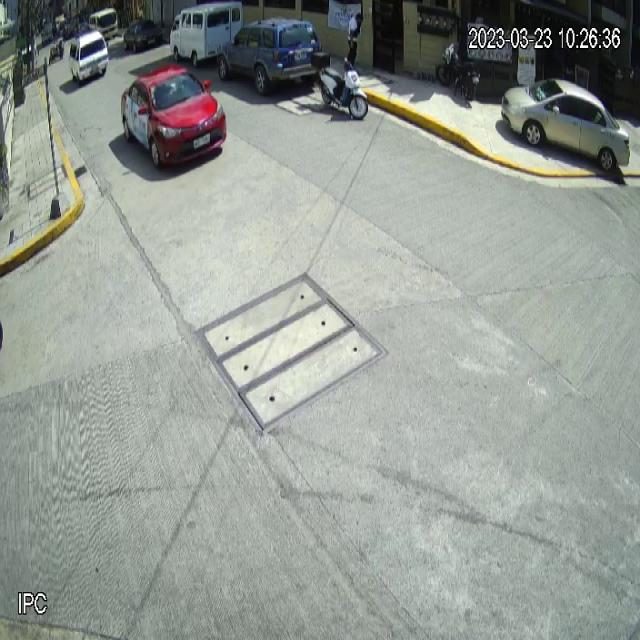Car: (501, 76, 631, 171), (119, 65, 228, 168), (219, 15, 325, 94)
Motorcycle: (312, 48, 369, 120)
Van: (170, 1, 245, 67)
